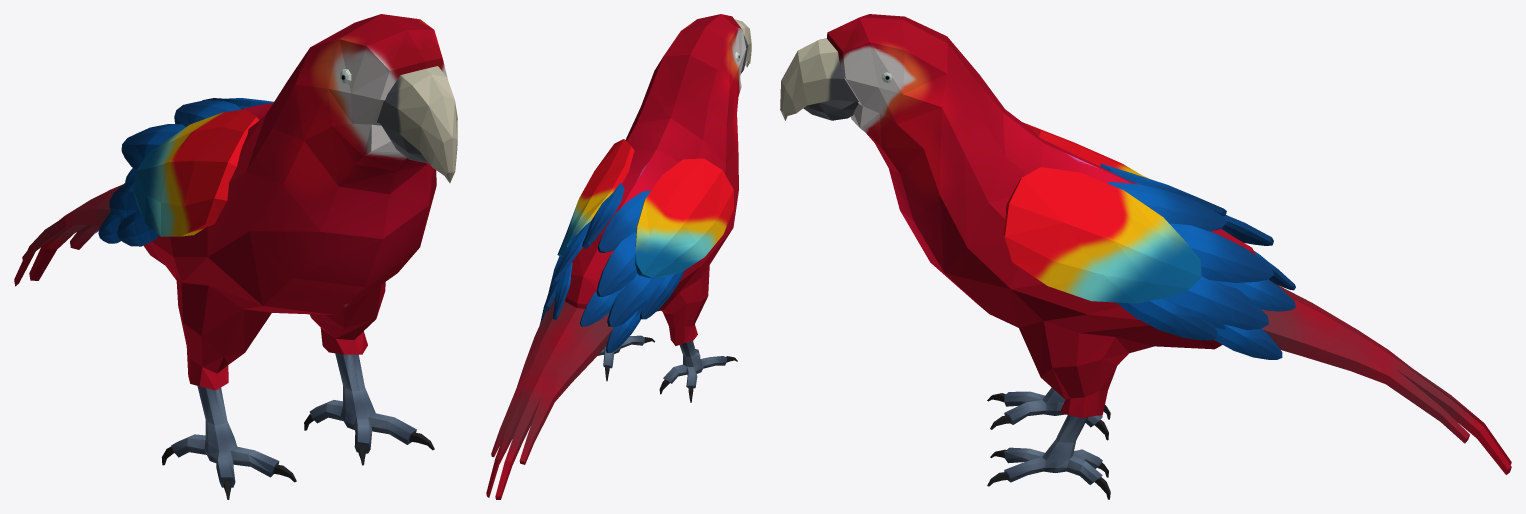
The picture shows the model from 3 angles, left to right: view 1: azimuth 30°, elevation 25°; view 2: azimuth 150°, elevation 25°; view 3: azimuth 270°, elevation 25°; orthographic projection. The views are drawn at different scales.
Parts seen in each view (by area): view 1: Node; view 2: Node; view 3: Node.
Boxes of the visible parts, x1,y1,x2,y2 form: Node: (14,14,457,499); Node: (486,14,751,499); Node: (780,14,1511,499).
Size of the model in its own units: 3.41 by 7.55 by 11.05.
2 materials, 1 textured.
